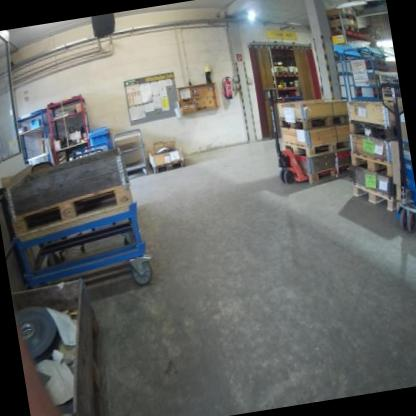pallet: (7, 181, 136, 239), (278, 104, 351, 136), (282, 131, 352, 161), (347, 112, 397, 149), (351, 177, 395, 218), (349, 145, 392, 183), (305, 161, 353, 186), (151, 157, 186, 174), (330, 19, 359, 37), (329, 10, 357, 26)
pallet_truck: (373, 75, 416, 237), (258, 80, 313, 190)
stillage: (372, 63, 401, 105)
